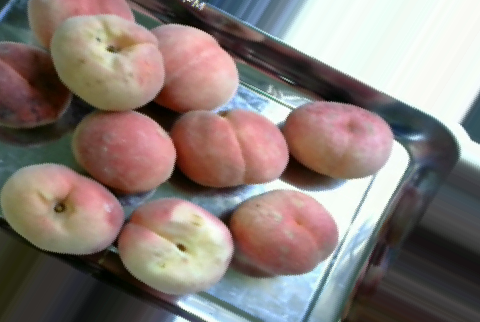Peach: (51, 13, 170, 112), (1, 161, 125, 255), (116, 197, 232, 293), (230, 188, 339, 274), (69, 108, 176, 193), (283, 101, 396, 177), (145, 22, 239, 112), (175, 110, 286, 184), (1, 40, 69, 131), (27, 0, 131, 47)
